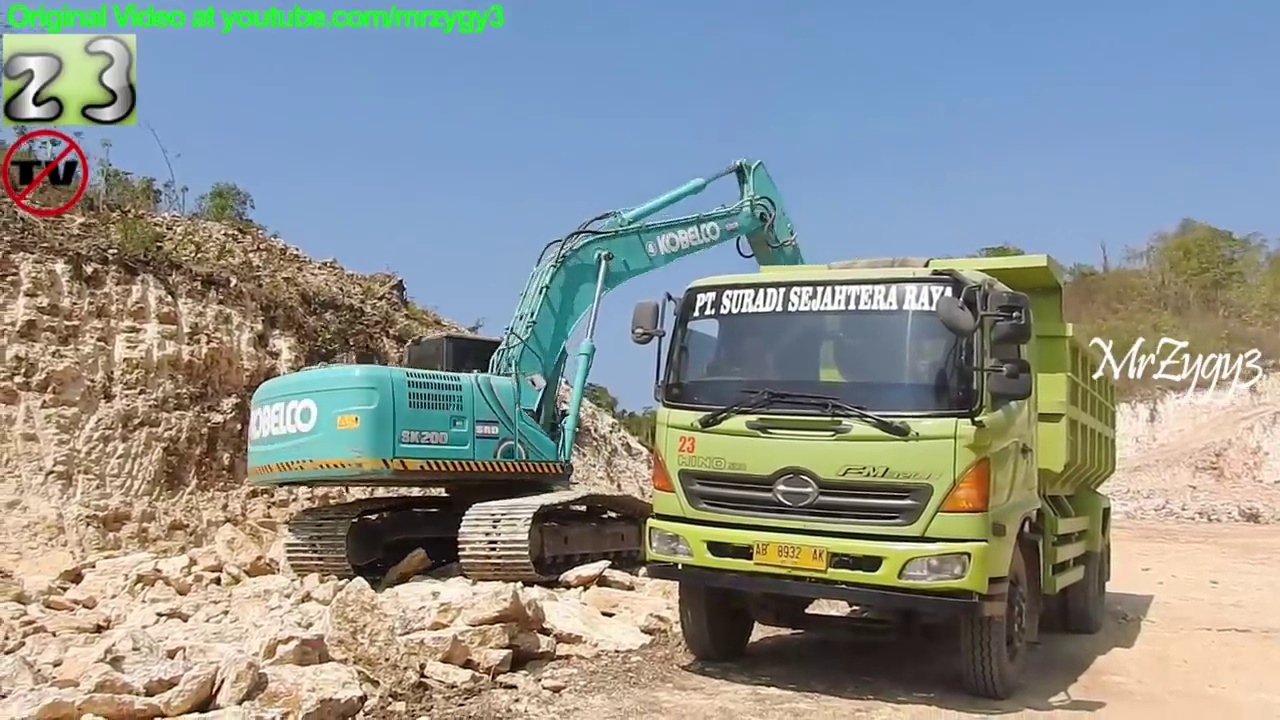excavator: (240, 147, 891, 598)
truck: (626, 244, 1127, 703)
